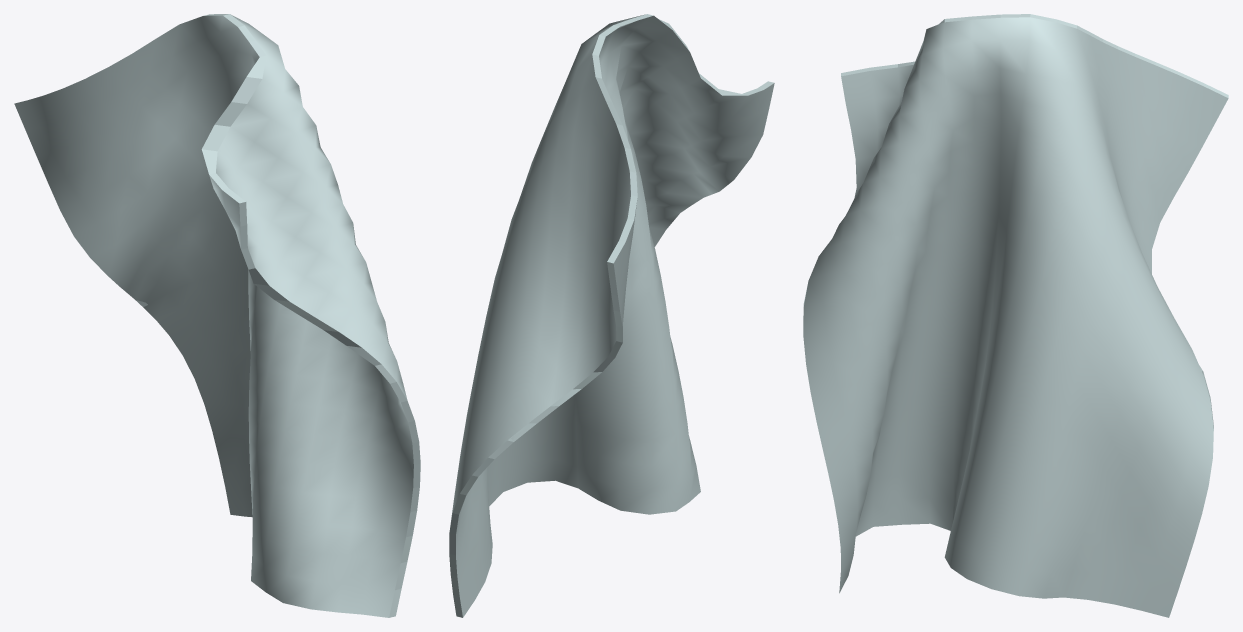
Rendered from Rag_01.fbx.
3 renders of one model, left to right at view 1: azimuth 30°, elevation 25°; view 2: azimuth 150°, elevation 25°; view 3: azimuth 270°, elevation 25°, orthographic. The views are drawn at different scales.
Parts seen in each view (by area): view 1: pPlane2; view 2: pPlane2; view 3: pPlane2.
Part boxes in pixels (<box>): pPlane2: <box>14,14,420,617</box>; pPlane2: <box>449,14,774,617</box>; pPlane2: <box>803,14,1228,617</box>.
Size of the model in its own units: 2.82 by 6.31 by 4.32.
